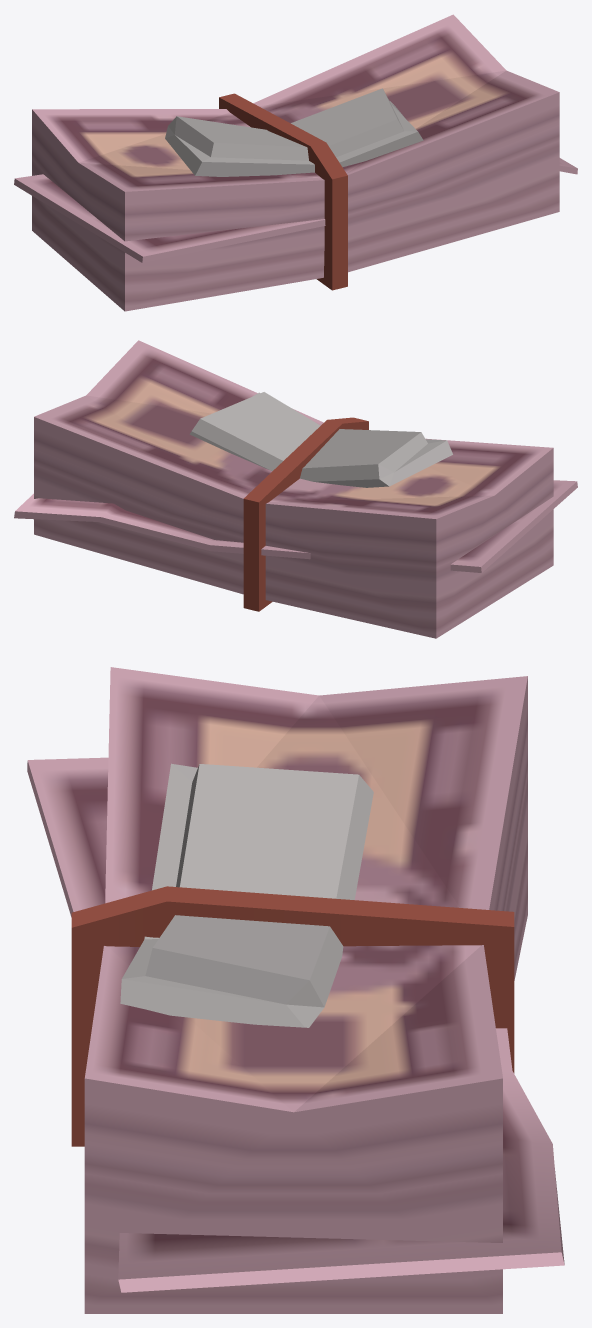
File: SM_Prop_Money_Strapped_01.glb
3 renders of one model, top to bottom at view 1: azimuth 30°, elevation 25°; view 2: azimuth 150°, elevation 25°; view 3: azimuth 270°, elevation 25°, orthographic. The views are drawn at different scales.
Visible parts, largest first — view 1: SM_Prop_Money_Strapped_01; view 2: SM_Prop_Money_Strapped_01; view 3: SM_Prop_Money_Strapped_01.
Part boxes in pixels (left/top/right/bottom): SM_Prop_Money_Strapped_01: left=14, top=14, right=577, bottom=311; SM_Prop_Money_Strapped_01: left=14, top=340, right=577, bottom=638; SM_Prop_Money_Strapped_01: left=27, top=667, right=564, bottom=1313.
Size of the model in its own units: 0.298 by 0.087 by 0.1486.
1 material, 1 textured.
